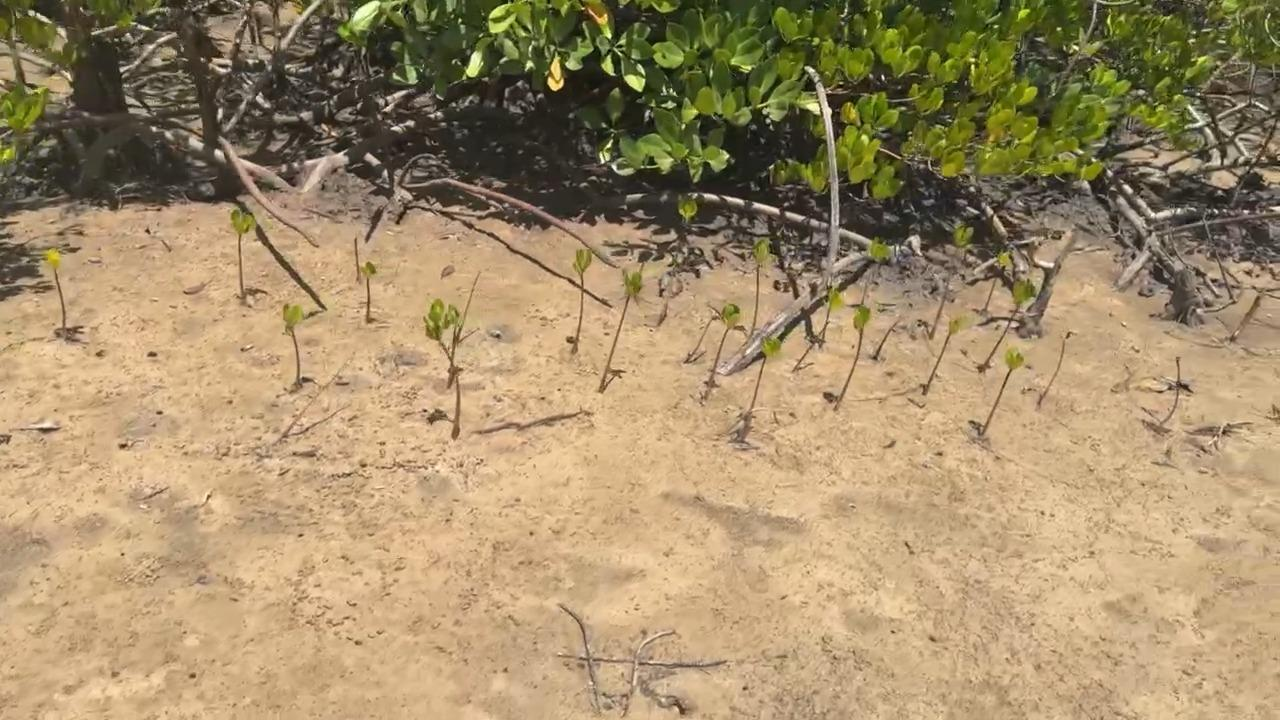Tree: (422, 300, 467, 440), (598, 270, 645, 394), (980, 278, 1038, 372), (929, 225, 972, 336), (739, 335, 781, 437), (832, 307, 872, 412), (704, 302, 746, 401), (922, 317, 973, 394), (981, 347, 1024, 434), (1039, 330, 1073, 404), (231, 210, 256, 300), (571, 249, 592, 353), (861, 238, 893, 304), (793, 320, 831, 370), (750, 240, 769, 335), (983, 249, 1011, 311), (47, 249, 67, 328), (283, 305, 304, 380), (684, 314, 714, 364), (458, 272, 480, 336), (821, 289, 842, 346), (875, 316, 904, 357), (363, 262, 377, 321), (448, 327, 457, 384), (353, 237, 361, 281)
